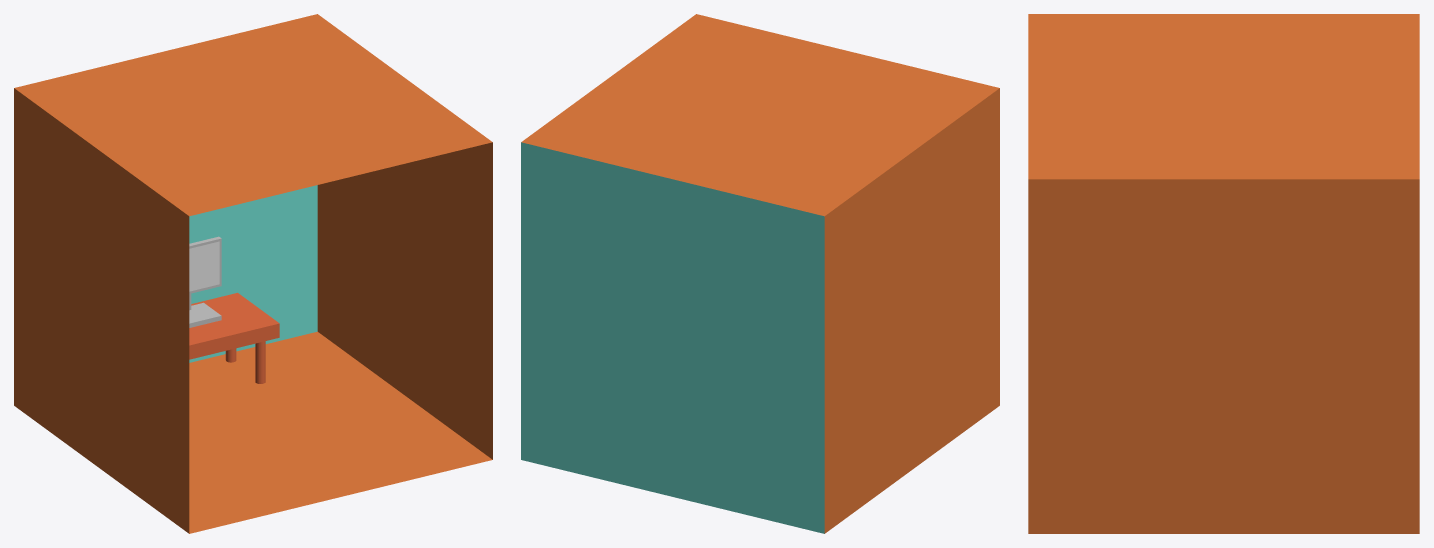
The model's file is room.glb.
The picture shows the model from 3 angles, left to right: view 1: azimuth 30°, elevation 25°; view 2: azimuth 150°, elevation 25°; view 3: azimuth 270°, elevation 25°; orthographic projection. The views are drawn at different scales.
Parts seen in each view (by area): view 1: Plane.002, Plane.001, Plane.003, Plane, Plane.004, Cube, Plane.005, Cube.001; view 2: Plane.004, Plane.002, Plane.001; view 3: Plane.003, Plane.001.
Part boxes in pixels (bbox=[...]): Plane.002: bbox=[14, 88, 189, 533]; Plane.001: bbox=[14, 14, 492, 216]; Plane.003: bbox=[317, 142, 492, 459]; Plane: bbox=[189, 331, 492, 533]; Plane.004: bbox=[189, 185, 317, 362]; Cube: bbox=[189, 292, 279, 359]; Plane.005: bbox=[189, 241, 219, 291]; Cube.001: bbox=[189, 302, 221, 327]; Plane.004: bbox=[521, 142, 824, 533]; Plane.002: bbox=[824, 88, 999, 533]; Plane.001: bbox=[521, 14, 999, 216]; Plane.003: bbox=[1028, 179, 1419, 533]; Plane.001: bbox=[1028, 14, 1419, 179].
Size of the model in its own units: 2 by 2.01 by 2.
